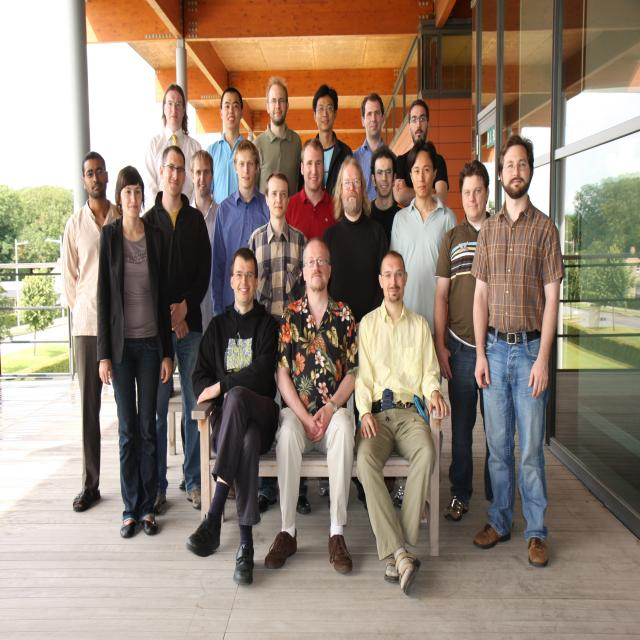body: (471, 132, 564, 569), (350, 248, 450, 598), (183, 246, 282, 589), (263, 237, 360, 578), (95, 164, 176, 542), (142, 146, 214, 514), (432, 157, 496, 523), (247, 170, 312, 516), (62, 150, 124, 512), (387, 139, 458, 387), (178, 149, 220, 490), (319, 154, 391, 340), (210, 139, 272, 320), (142, 84, 204, 218), (251, 76, 304, 200), (391, 97, 450, 207), (284, 137, 342, 244), (351, 91, 399, 205), (311, 82, 354, 196), (206, 86, 245, 208), (364, 144, 407, 247)
